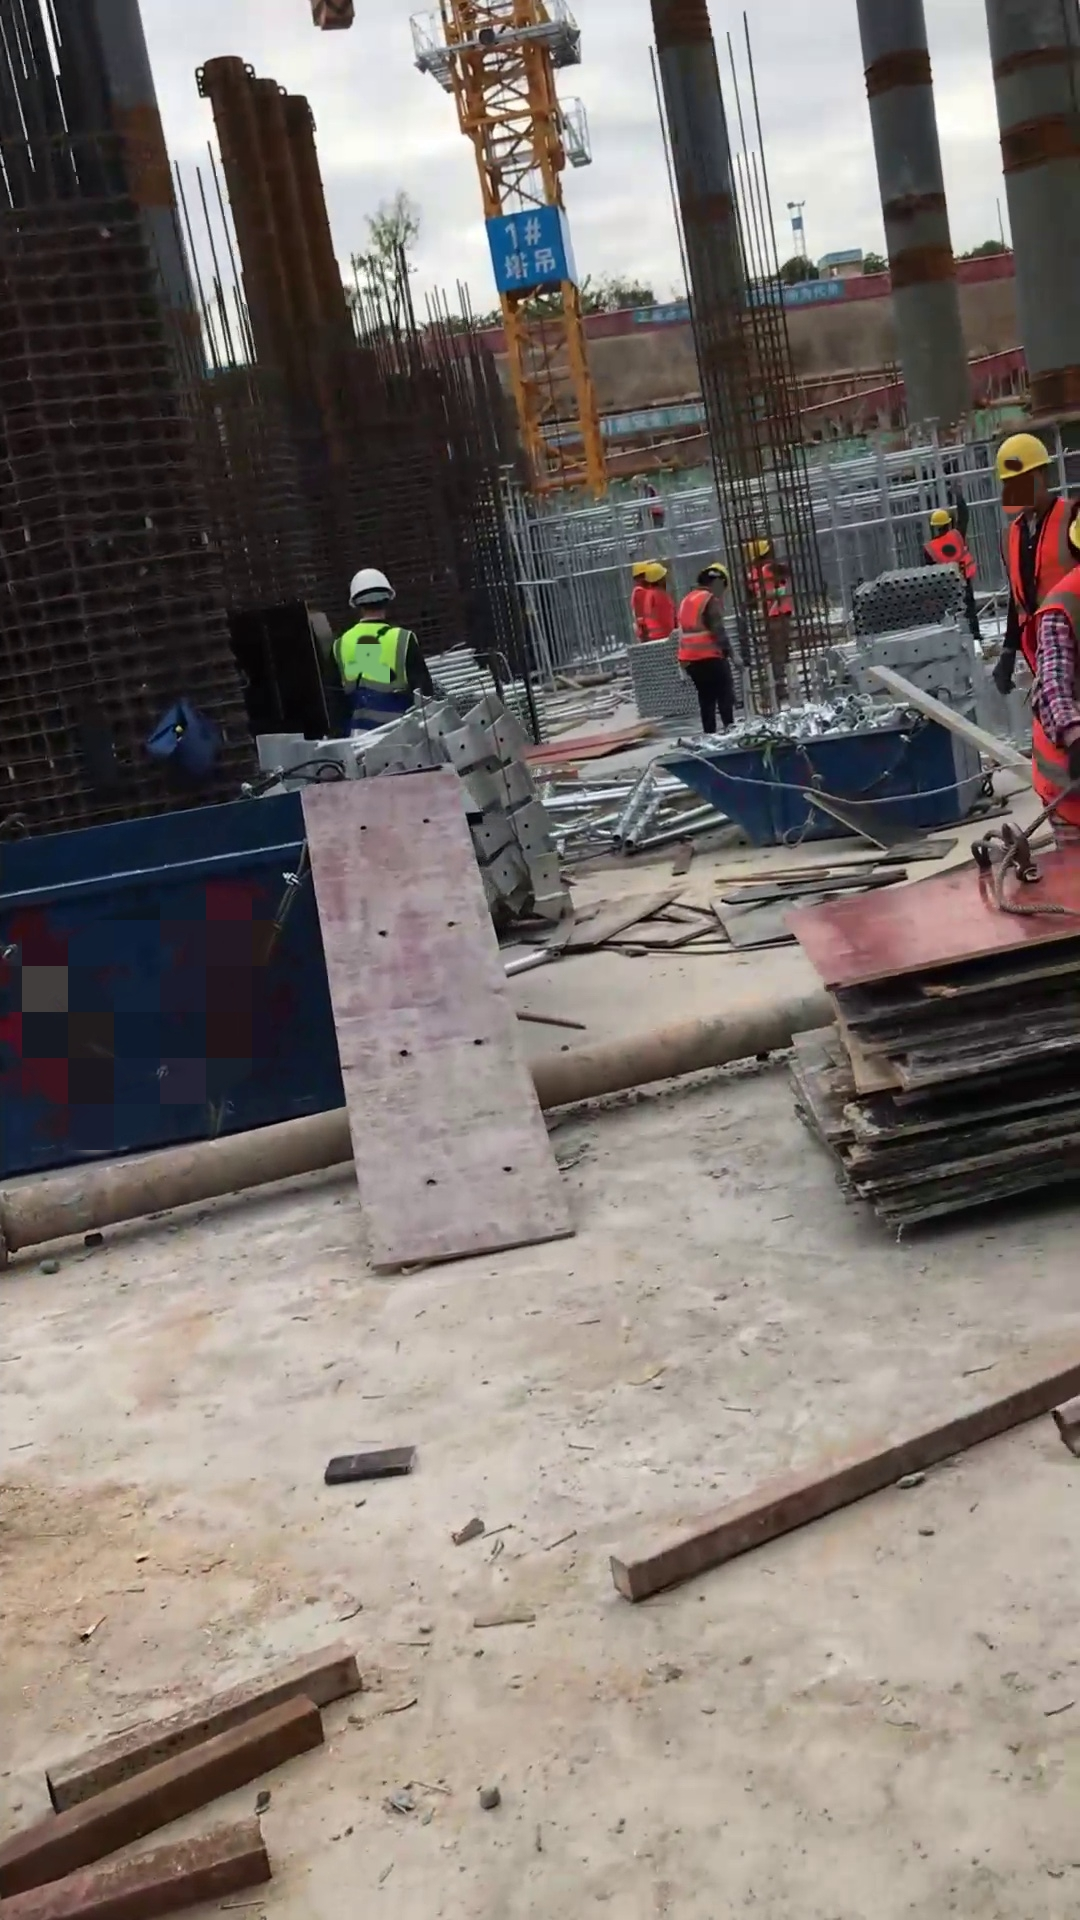board: (792, 834, 1080, 1231)
helmet: (994, 432, 1056, 480), (346, 566, 397, 610), (700, 560, 732, 584), (643, 560, 667, 586), (747, 538, 772, 560), (928, 507, 953, 527), (631, 557, 647, 579)
hopper: (1, 787, 350, 1177), (653, 699, 981, 851)
person: (985, 431, 1080, 695), (329, 565, 440, 738), (676, 560, 746, 734), (918, 478, 984, 648), (743, 537, 798, 710), (642, 560, 680, 639), (628, 555, 648, 642)
scaffold: (427, 643, 550, 745), (852, 561, 965, 635), (622, 632, 703, 720)
slogan: (636, 280, 848, 323), (489, 207, 567, 286), (591, 409, 715, 441)
vest: (997, 493, 1074, 671), (1029, 565, 1080, 827), (332, 616, 419, 734), (677, 582, 727, 664), (924, 527, 978, 584), (746, 557, 793, 616), (644, 586, 664, 638)
